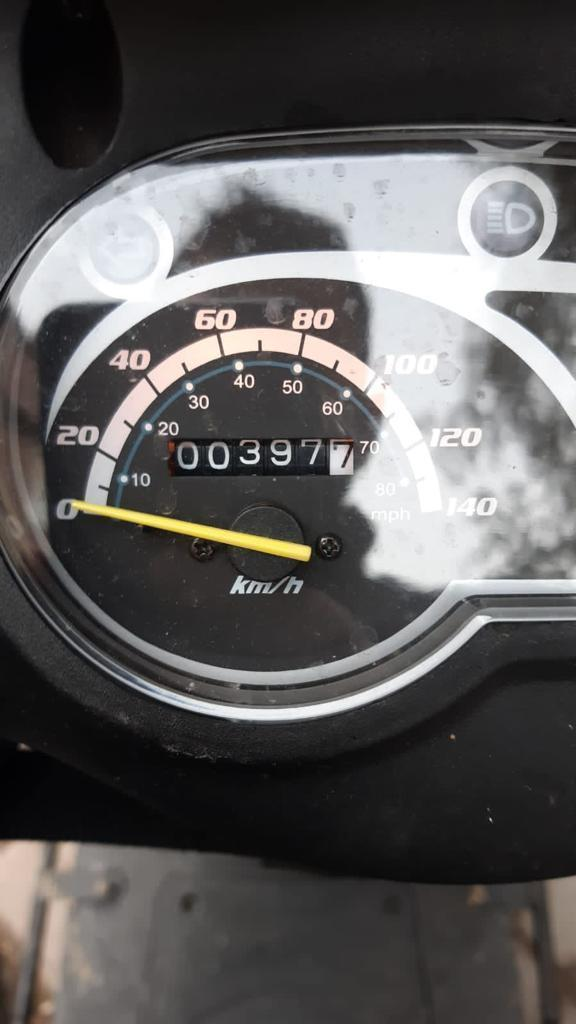0: (175, 440, 200, 471), (206, 439, 230, 471)
3: (237, 437, 261, 465)
7: (331, 438, 355, 469), (298, 437, 322, 466)
9: (267, 437, 293, 467)
odometer: (164, 435, 356, 479)
